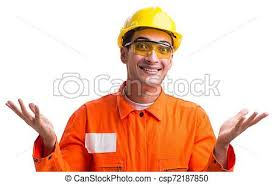Person_wearing_helmet: (112, 1, 186, 63)
